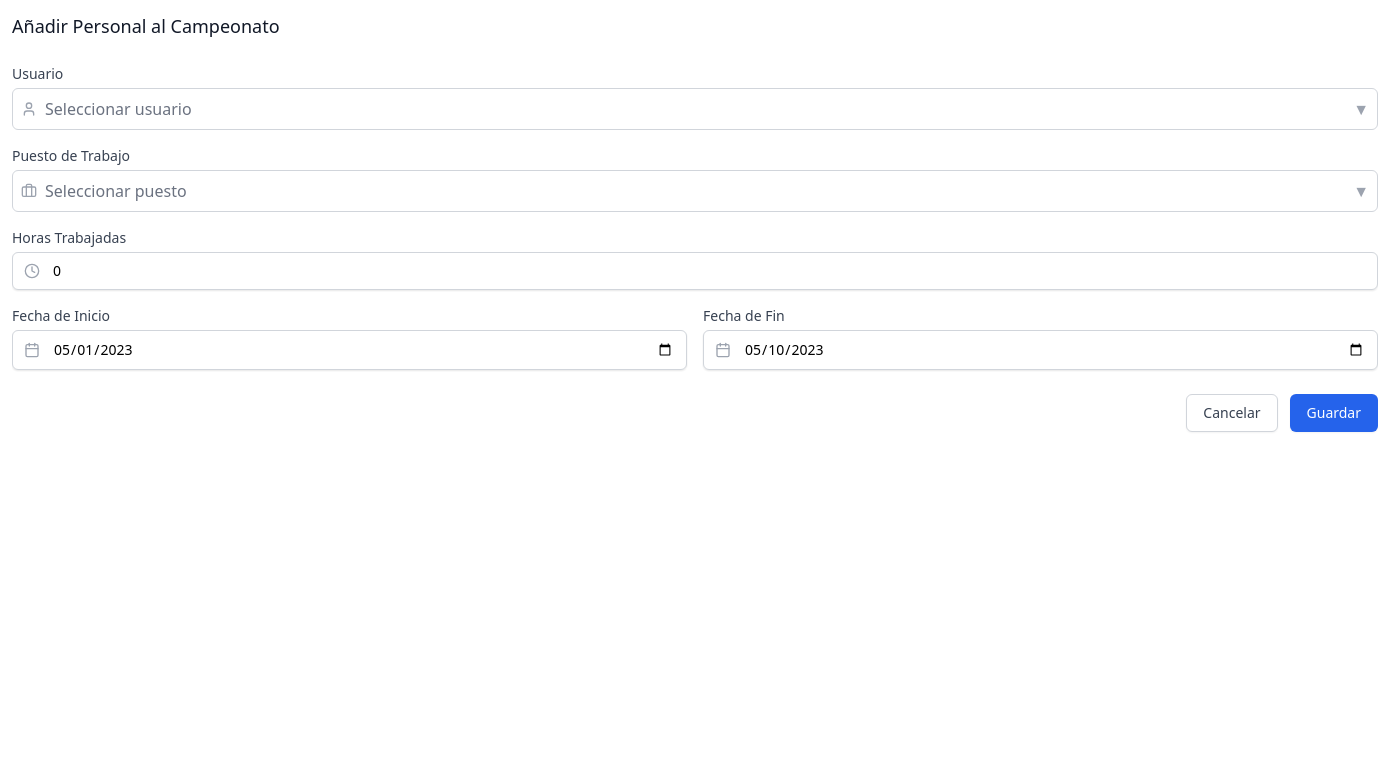
Test case: AddAssignmentForm Component › shows validation errors when submitting with empty fields
# Hacer clic en el botón de guardar sin completar los campos
Click the button "Guardar" at (1334, 413), box [1290,394,1378,432]
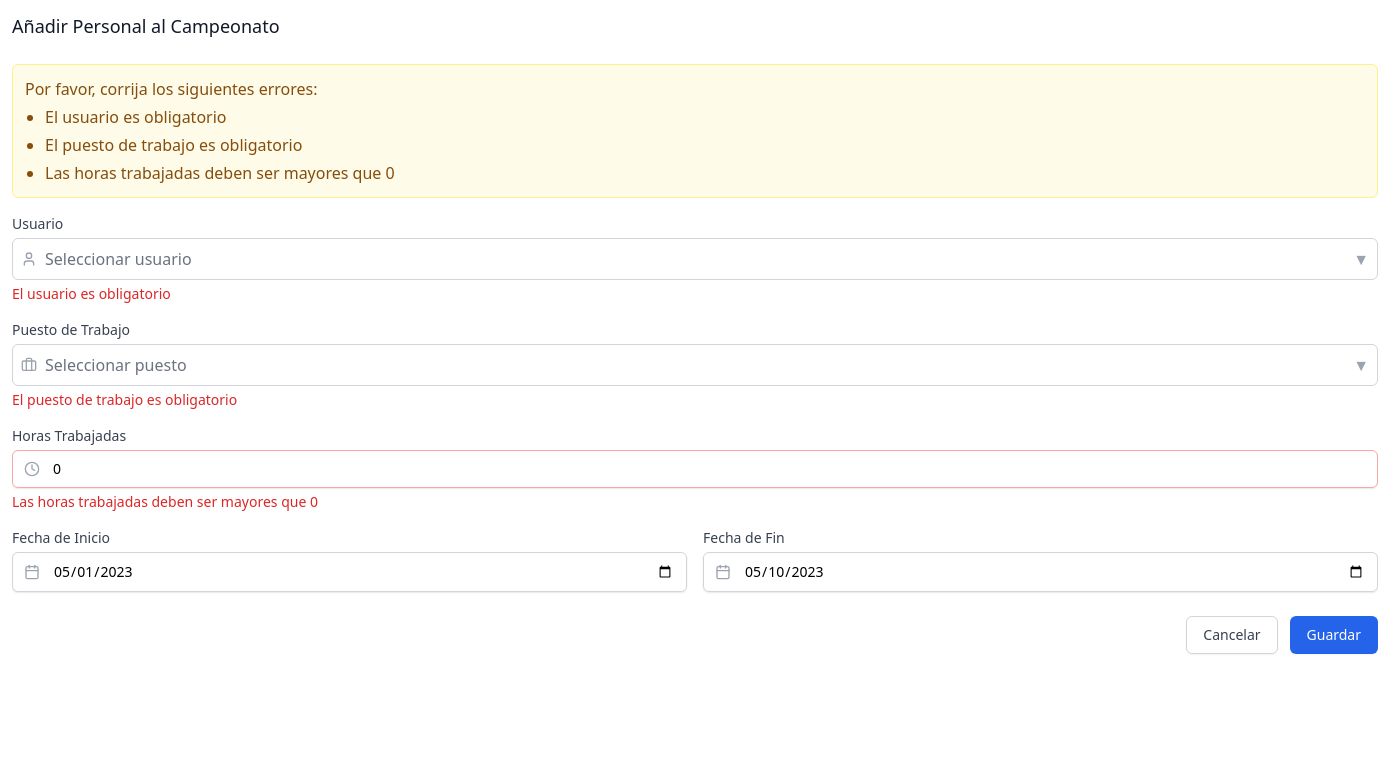
Check: the text "Por favor, corrija los siguientes errores:" is shown, box [25,78,318,100]
Check: the list item "El usuario es obligatorio" is shown, box [45,106,226,128]
Check: the list item "El puesto de trabajo es obligatorio" is shown, box [45,134,302,156]
